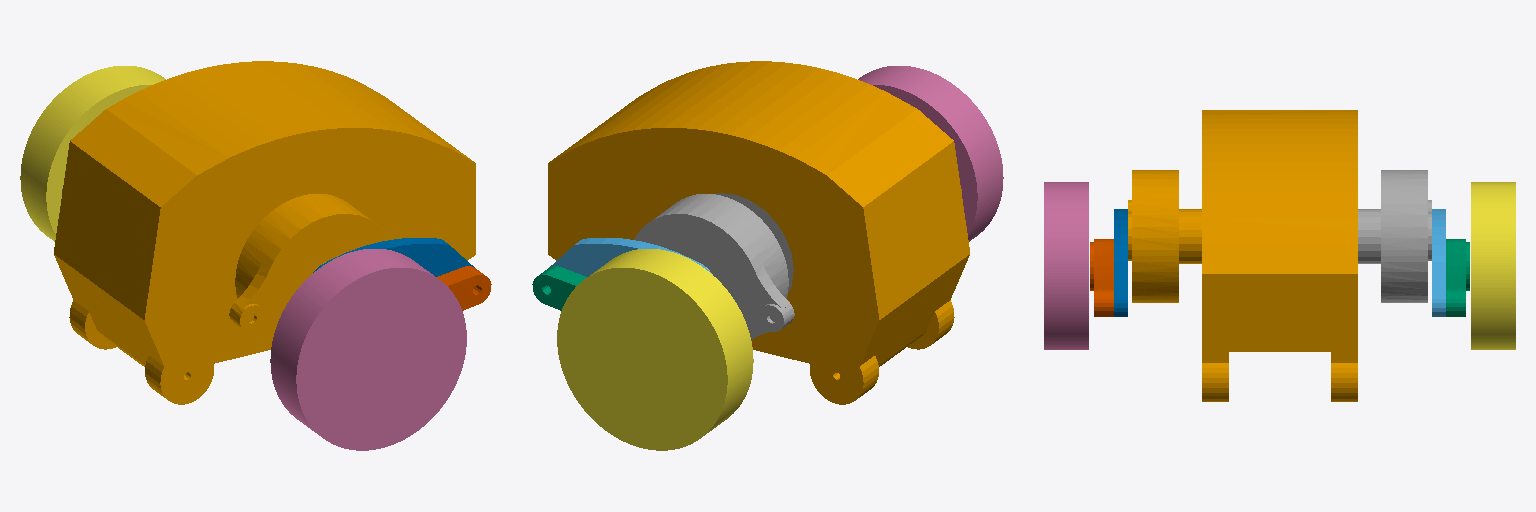
robot.urdf — robot:
<?xml version="1.0" ?>
<!-- =================================================================================== -->
<!-- |    This document was autogenerated by xacro from diablo.xacro                   | -->
<!-- |    EDITING THIS FILE BY HAND IS NOT RECOMMENDED                                 | -->
<!-- =================================================================================== -->
<robot name="robot">
  <link name="diablo_base_link">
    <inertial>
      <origin rpy="0 0 0" xyz="0 0 0"/>
      <mass value="11.639"/>
      <inertia ixx="0.071628" ixy="-5.9879e-09" ixz="-0.00097471" iyy="0.16274" iyz="-1.6369e-08" izz="0.14673"/>
    </inertial>
    <visual>
      <origin rpy="0 0 0" xyz="0 0 0"/>
      <geometry>
        <mesh filename="../meshes/base_link.stl" scale="0.1 0.1 0.1"/>
      </geometry>
    </visual>
    <collision>
      <origin rpy="0 0 0" xyz="0 0 0"/>
      <geometry>
        <mesh filename="../meshes/base_link.stl" scale="0.1 0.1 0.1"/>
      </geometry>
    </collision>
  </link>
  <link name="left_thigh_link">
    <inertial>
      <origin rpy="0 0 0" xyz="0 0 0"/>
      <mass value="0.10382"/>
      <inertia ixx="3.6972e-05" ixy="2.4106e-05" ixz="4.3699e-10" iyy="0.00029278" iyz="-4.1243e-11" izz="0.00032532"/>
    </inertial>
    <visual>
      <origin rpy="0 0 0" xyz="0 0 0"/>
      <geometry>
        <mesh filename="../meshes/left_leg1.STL" scale="1 1 1"/>
      </geometry>
    </visual>
    <collision>
      <origin rpy="0 0 0" xyz="0 0 0"/>
      <geometry>
        <mesh filename="../meshes/left_leg1.STL" scale="1 1 1"/>
      </geometry>
    </collision>
  </link>
  <link name="left_shank_link">
    <inertial>
      <origin rpy="0 0 0" xyz="0 0 0"/>
      <mass value="0.18218"/>
      <inertia ixx="4.1372e-05" ixy="5.1445e-09" ixz="-7.3659e-06" iyy="0.00048219" iyz="2.5521e-11" izz="0.00050441"/>
    </inertial>
    <visual>
      <origin rpy="0 0 0" xyz="0 0 0"/>
      <geometry>
        <mesh filename="../meshes/left_leg2.STL" scale="1 1 1"/>
      </geometry>
    </visual>
    <collision>
      <origin rpy="0 0 0" xyz="0 0 0"/>
      <geometry>
        <mesh filename="../meshes/left_leg2.STL" scale="1 1 1"/>
      </geometry>
    </collision>
  </link>
  <link name="left_wheel">
    <inertial>
      <origin rpy="0 0 0" xyz="0 0 0"/>
      <mass value="2.9494"/>
      <inertia ixx="0.0069338" ixy="2.8693e-09" ixz="4.6779e-09" iyy="0.006934" iyz="-5.0441e-11" izz="0.012567"/>
    </inertial>
    <visual>
        <origin rpy="0 0 0" xyz="0 0 0"/>
        <geometry>
            <mesh filename="../meshes/left_wheel.STL" scale="1 1 1"/>
        </geometry>
    </visual>
    <collision>
        <origin rpy="0 0 0" xyz="0 0 0"/>
        <geometry>
            <cylinder radius="0.1" length="0.05"/>
        </geometry>
    </collision>
  </link>
  <link name="right_thigh_link">
    <inertial>
      <origin rpy="0 0 0" xyz="0 0 0"/>
      <mass value="0.10382"/>
      <inertia ixx="3.6972e-05" ixy="2.4106e-05" ixz="-4.3686e-10" iyy="0.00029278" iyz="4.1459e-11" izz="0.00032532"/>
    </inertial>
    <visual>
      <origin rpy="0 0 0" xyz="0 0 0"/>
      <geometry>
        <mesh filename="../meshes/right_leg1.STL" scale="1 1 1"/>
      </geometry>
    </visual>
    <collision>
      <origin rpy="0 0 0" xyz="0 0 0"/>
      <geometry>
        <mesh filename="../meshes/right_leg1.STL" scale="1 1 1"/>
      </geometry>
    </collision>
  </link>
  <link name="right_shank_link">
    <inertial>
      <origin rpy="0 0 0" xyz="0 0 0"/>
      <mass value="0.18218"/>
      <inertia ixx="4.1372e-05" ixy="5.1777e-09" ixz="7.3659e-06" iyy="0.00048219" iyz="4.5225e-11" izz="0.00050441"/>
    </inertial>
    <visual>
      <origin rpy="0 0 0" xyz="0 0 0"/>
      <geometry>
        <mesh filename="../meshes/right_leg2.STL" scale="1 1 1"/>
      </geometry>
    </visual>
    <collision>
      <origin rpy="0 0 0" xyz="0 0 0"/>
      <geometry>
        <mesh filename="../meshes/right_leg2.STL" scale="1 1 1"/>
      </geometry>
    </collision>
  </link>
  <link name="right_wheel">
    <inertial>
      <origin rpy="0 0 0" xyz="0 0 0"/>
      <mass value="2.9494"/>
      <inertia ixx="0.0069339" ixy="-1.3146e-07" ixz="-3.0392e-09" iyy="0.0069339" iyz="-3.5756e-09" izz="0.012567"/>
    </inertial>
    <visual>
        <origin rpy="0 0 0" xyz="0 0 0"/>
        <geometry>
            <mesh filename="../meshes/left_wheel.STL" scale="1 1 1"/>
        </geometry>
    </visual>
    <collision>
        <origin rpy="0 0 0" xyz="0 0 0"/>
        <geometry>
            <cylinder radius="0.1" length="0.05"/>
        </geometry>
    </collision>
  </link>
  <link name="left_fake_thigh_link">
    <inertial>
      <origin rpy="0 0 0" xyz="0 0 0"/>
      <mass value="1.3837"/>
      <inertia ixx="0.003352" ixy="2.7785e-09" ixz="-6.5913e-05" iyy="0.0034908" iyz="4.5045e-10" izz="0.0034856"/>
    </inertial>
    <visual>
      <origin rpy="0 0 0" xyz="0 0 0"/>
      <geometry>
        <mesh filename="../meshes/left_motor.STL" scale="1 1 1"/>
      </geometry>
    </visual>
    <collision>
      <origin rpy="0 0 0" xyz="0 0 0"/>
      <geometry>
        <mesh filename="../meshes/left_motor.STL" scale="1 1 1"/>
      </geometry>
    </collision>
  </link>
  <link name="right_fake_thigh_link">
    <inertial>
      <origin rpy="0 0 0" xyz="0 0 0"/>
      <mass value="1.3838"/>
      <inertia ixx="0.003352" ixy="-2.6527e-09" ixz="6.5914e-05" iyy="0.0034908" iyz="-7.2968e-10" izz="0.0034856"/>
    </inertial>
    <visual>
      <origin rpy="0 0 0" xyz="0 0 0"/>
      <geometry>
        <mesh filename="../meshes/right_motor.STL" scale="1 1 1"/>
      </geometry>
    </visual>
    <collision>
      <origin rpy="0 0 0" xyz="0 0 0"/>
      <geometry>
        <mesh filename="../meshes/right_motor.STL" scale="1 1 1"/>
      </geometry>
    </collision>
  </link>
  <joint name="left_hip_joint" type="revolute">
    <origin rpy="0 0 -2.8729" xyz="0 0 0"/>
    <parent link="left_fake_thigh_link"/>
    <child link="left_thigh_link"/>
    <axis xyz="0 0 1"/>
    <limit lower="-3.14" upper="3.14" effort="27" velocity="26" />
  </joint>
  <joint name="left_knee_joint" type="revolute">
    <origin rpy="0 0 2.8729" xyz="0.14 0 0"/>
    <parent link="left_thigh_link"/>
    <child link="left_shank_link"/>
    <axis xyz="0 0 1"/>
    <limit lower="-3.14" upper="3.14" effort="27" velocity="26" />
  </joint>
  <joint name="left_wheel_joint" type="revolute">
    <origin rpy="0 0 0.13433" xyz="0.14 0 0.0537"/>
    <parent link="left_shank_link"/>
    <child link="left_wheel"/>
    <axis xyz="0 0 1"/>
    <limit effort="27" velocity="26" />
  </joint>
  <joint name="right_hip_joint" type="revolute">
    <origin rpy="0 0 -2.8729" xyz="0 0 0"/>
    <parent link="right_fake_thigh_link"/>
    <child link="right_thigh_link"/>
    <axis xyz="0 0 1"/>
    <limit lower="-3.14" upper="3.14" effort="27" velocity="26" />
  </joint>
  <joint name="right_knee_joint" type="revolute">
    <origin rpy="0 0 2.8729" xyz="0.14 0 0"/>
    <parent link="right_thigh_link"/>
    <child link="right_shank_link"/>
    <axis xyz="0 0 1"/>
    <limit lower="-3.14" upper="3.14" effort="27" velocity="26" />
  </joint>
  <joint name="right_wheel_joint" type="revolute">
    <origin rpy="0 0 -3.0073" xyz="0.14 0 -0.0537"/>
    <parent link="right_shank_link"/>
    <child link="right_wheel"/>
    <axis xyz="0 0 1"/>
    <limit effort="27" velocity="26" />
  </joint>
  <joint name="left_fake_hip_joint" type="fixed">
    <origin rpy="1.5708 0.13433 -3.1416" xyz="0 0.18755 0"/>
    <parent link="diablo_base_link"/>
    <child link="left_fake_thigh_link"/>
  </joint>
  <joint name="right_fake_hip_joint" type="fixed">
    <origin rpy="1.5708 0.13433 3.1416" xyz="0 -0.18755 0"/>
    <parent link="diablo_base_link"/>
    <child link="right_fake_thigh_link"/>
  </joint>
</robot>

--- What the picture shows (computed from the rendered views, not written in the file) ---
The picture shows the robot from 3 angles, left to right: view 1: azimuth 30°, elevation 25°; view 2: azimuth 150°, elevation 25°; view 3: azimuth 270°, elevation 25°; orthographic projection.
Robot: robot — 9 links, 8 joints (6 revolute, 2 fixed); root link diablo_base_link; default pose: all joints at 0.
Links seen in each view (by area): view 1: diablo_base_link, right_wheel, right_fake_thigh_link, left_wheel, right_thigh_link, right_shank_link; view 2: diablo_base_link, left_wheel, left_fake_thigh_link, right_wheel, left_thigh_link, left_shank_link; view 3: diablo_base_link, left_fake_thigh_link, right_fake_thigh_link, left_wheel, right_wheel, left_shank_link, right_shank_link, left_thigh_link, right_thigh_link.
Link boxes in pixels (<box>): diablo_base_link: <box>54,61,475,404</box>; right_wheel: <box>270,249,466,450</box>; right_fake_thigh_link: <box>229,193,389,340</box>; left_wheel: <box>20,66,165,241</box>; right_thigh_link: <box>313,238,474,276</box>; right_shank_link: <box>437,266,491,310</box>; diablo_base_link: <box>548,61,969,404</box>; left_wheel: <box>557,249,753,450</box>; left_fake_thigh_link: <box>634,193,794,340</box>; right_wheel: <box>858,66,1003,241</box>; left_thigh_link: <box>549,238,710,276</box>; left_shank_link: <box>532,266,586,310</box>; diablo_base_link: <box>1202,110,1357,401</box>; left_fake_thigh_link: <box>1358,170,1431,302</box>; right_fake_thigh_link: <box>1128,170,1201,302</box>; left_wheel: <box>1471,182,1515,349</box>; right_wheel: <box>1044,182,1088,349</box>; left_shank_link: <box>1446,239,1469,316</box>; right_shank_link: <box>1090,239,1113,316</box>; left_thigh_link: <box>1432,209,1445,316</box>; right_thigh_link: <box>1114,209,1127,316</box>.
Size in the robot's own frame: 0.3699 by 0.5325 by 0.2604 metres.
Meshes: 8 distinct files referenced, 9 mesh visuals loaded (8 binary STL).